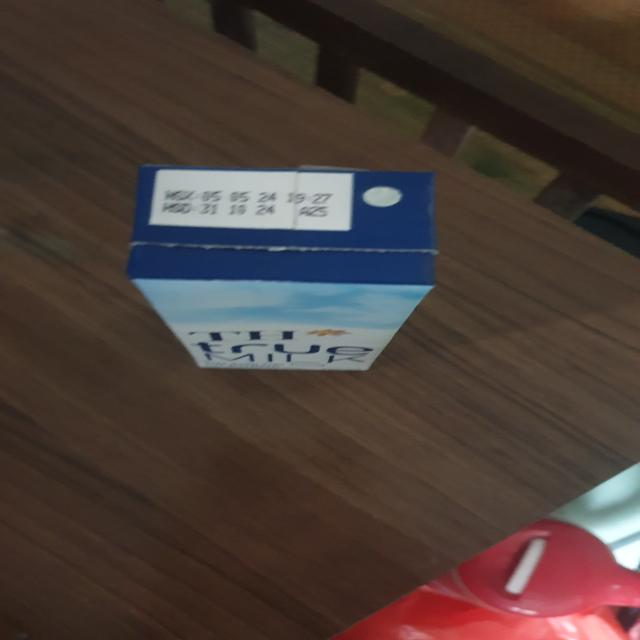TH: (128, 168, 436, 376)
